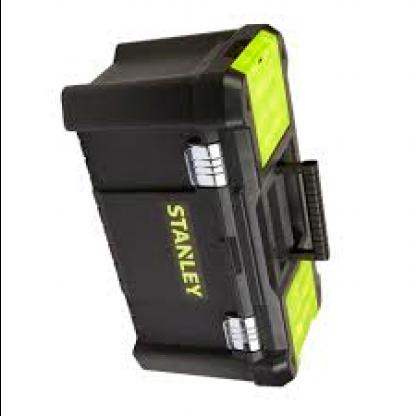Tool Box: (58, 22, 334, 390)
